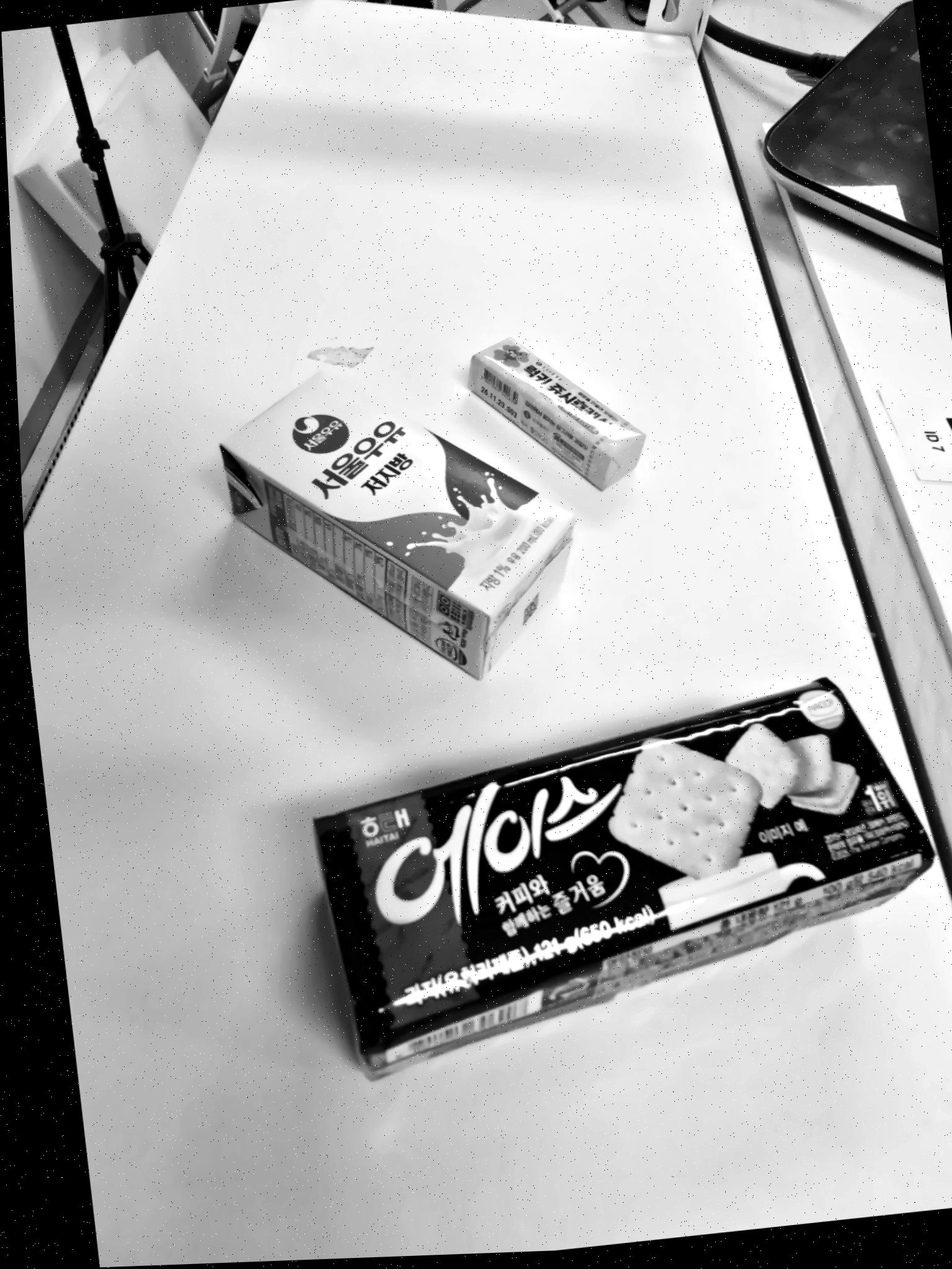cracker_ace: (314, 679, 934, 1078)
gum_yellow: (468, 338, 644, 490)
milk_blue: (220, 371, 574, 679)
